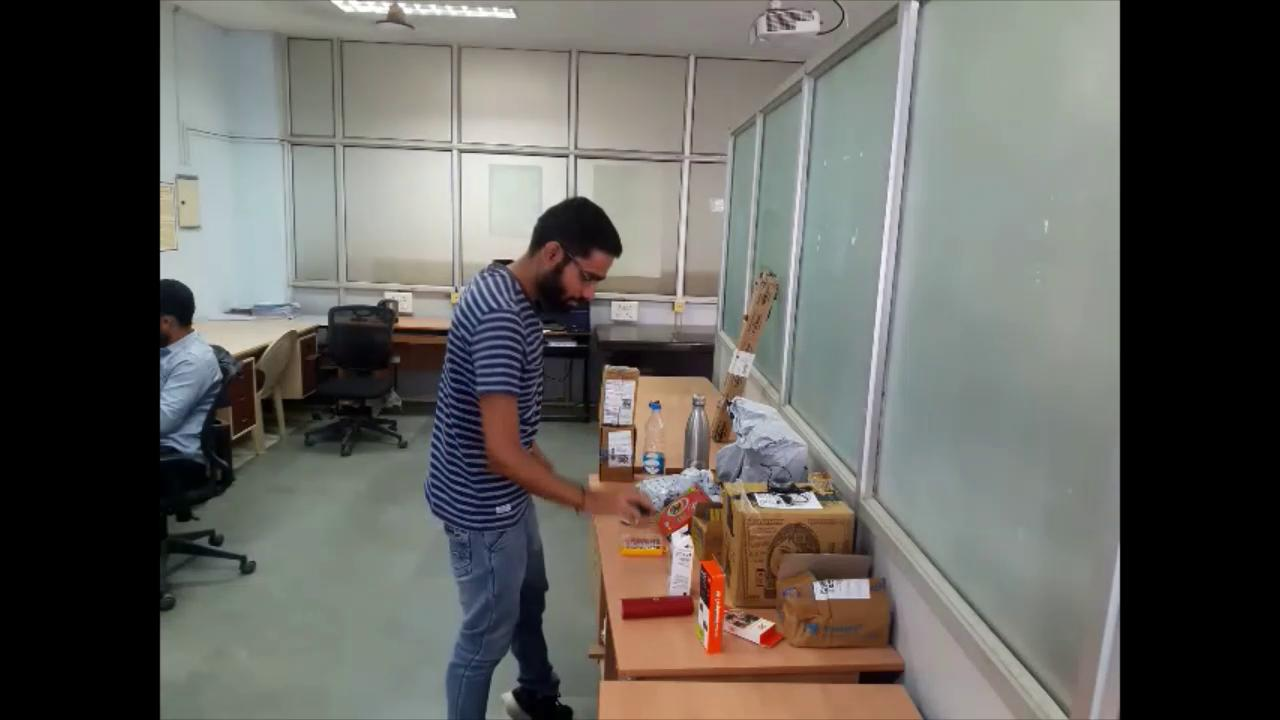Normal: (421, 178, 644, 720)
